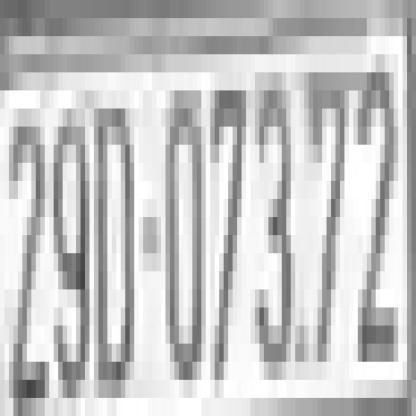0: (165, 90, 206, 362)
2: (349, 72, 394, 344), (9, 127, 49, 398)
3: (250, 90, 291, 362)
7: (206, 90, 246, 362), (304, 91, 345, 344)
9: (53, 126, 90, 379)
D: (98, 108, 134, 362)
